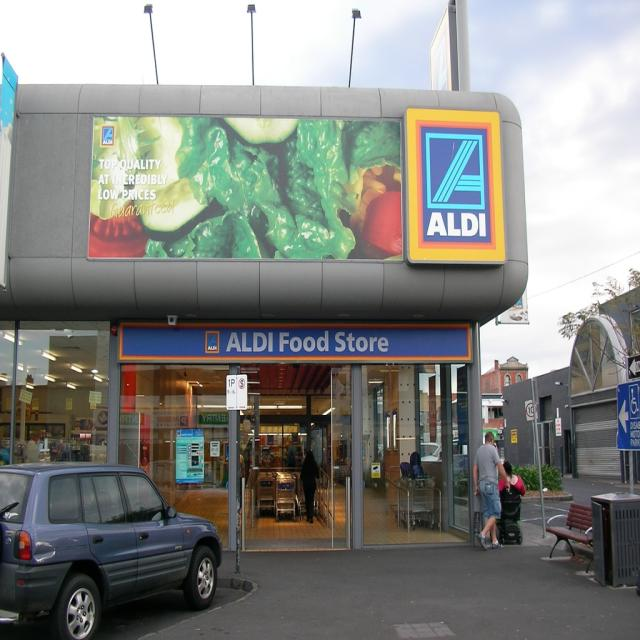aldi: (409, 109, 508, 262), (101, 124, 117, 150), (205, 332, 220, 353)
